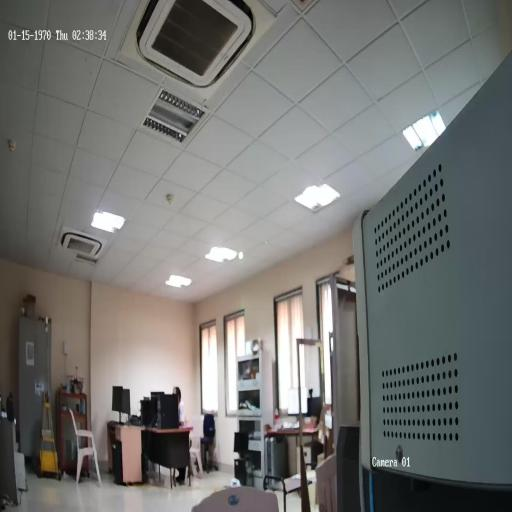laser: (238, 250, 245, 260)
